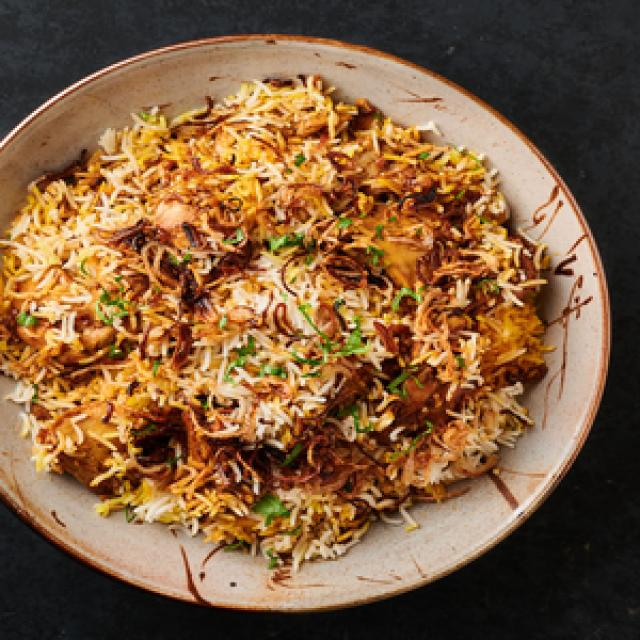chicken biriyani: (0, 64, 566, 580)
